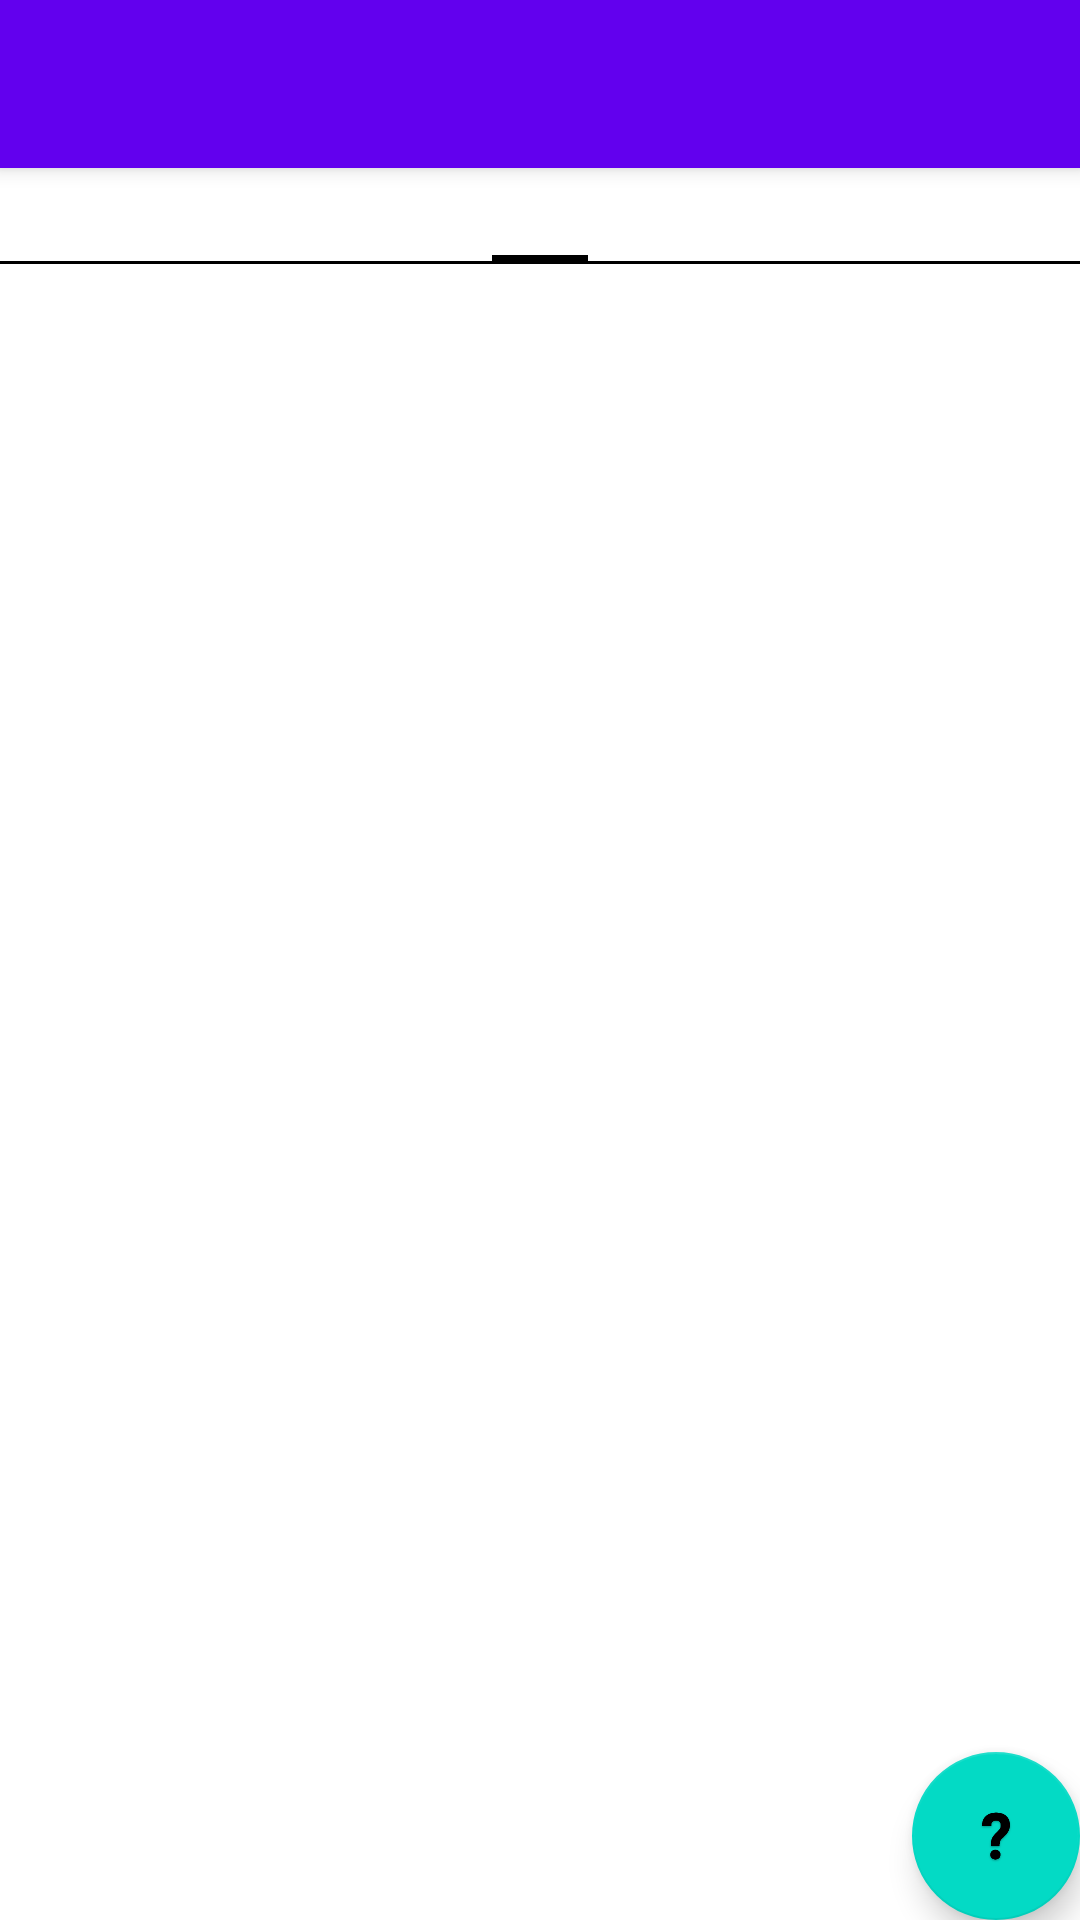

Screen size 1080*1920. Icon name, then its box in pixels as (x1, y1, x2, y2):
about: (912, 1752, 1080, 1920)
